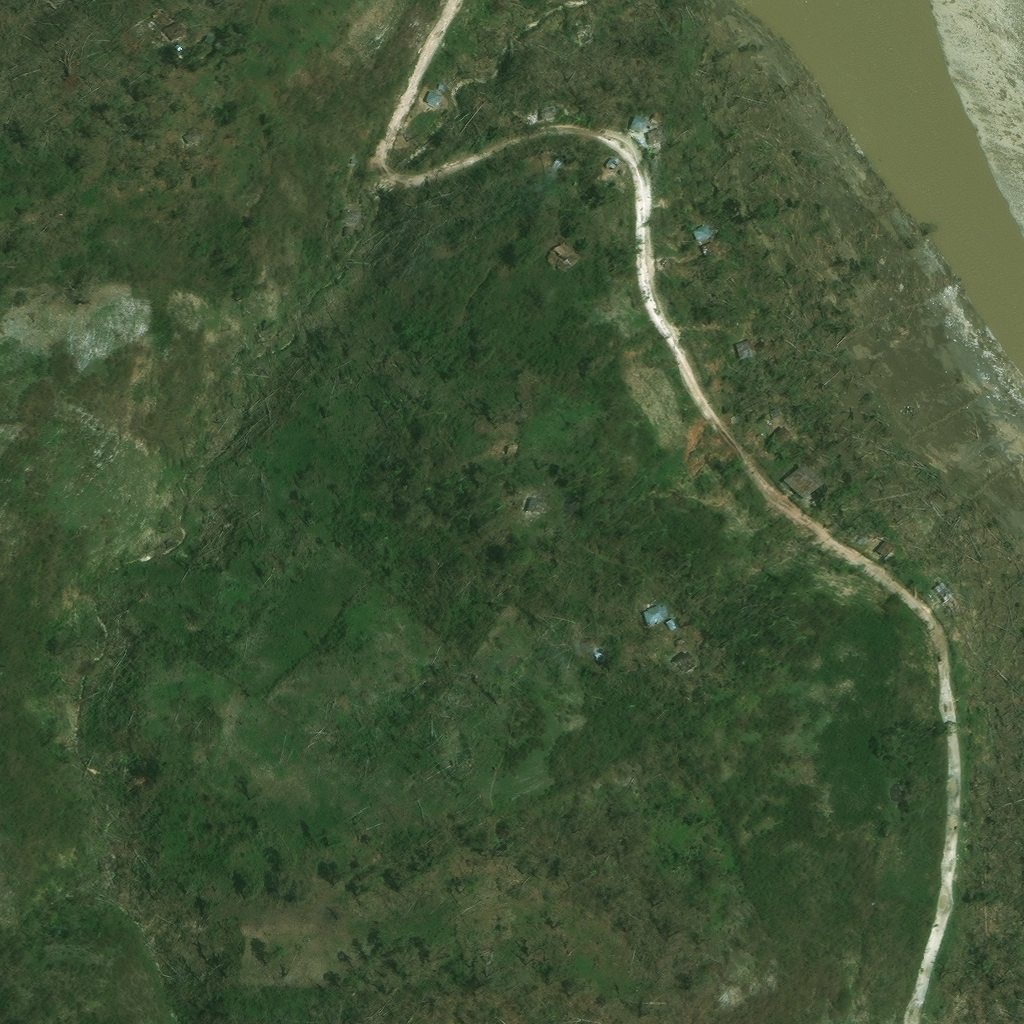destroyed: (373, 189, 391, 202), (591, 16, 604, 31), (398, 221, 409, 232), (523, 109, 530, 117), (145, 143, 151, 150)
minor_damage: (782, 418, 801, 437), (932, 582, 947, 599), (634, 137, 648, 151), (158, 145, 173, 158), (527, 497, 540, 512), (500, 440, 513, 452), (703, 241, 716, 252), (542, 105, 555, 116), (759, 340, 768, 349), (749, 339, 758, 348), (154, 17, 162, 26), (0, 145, 3, 151)
no_damage: (793, 457, 828, 490), (673, 652, 692, 673), (157, 27, 175, 45), (879, 539, 897, 556), (636, 120, 649, 132)
unclassified: (867, 902, 876, 911)
